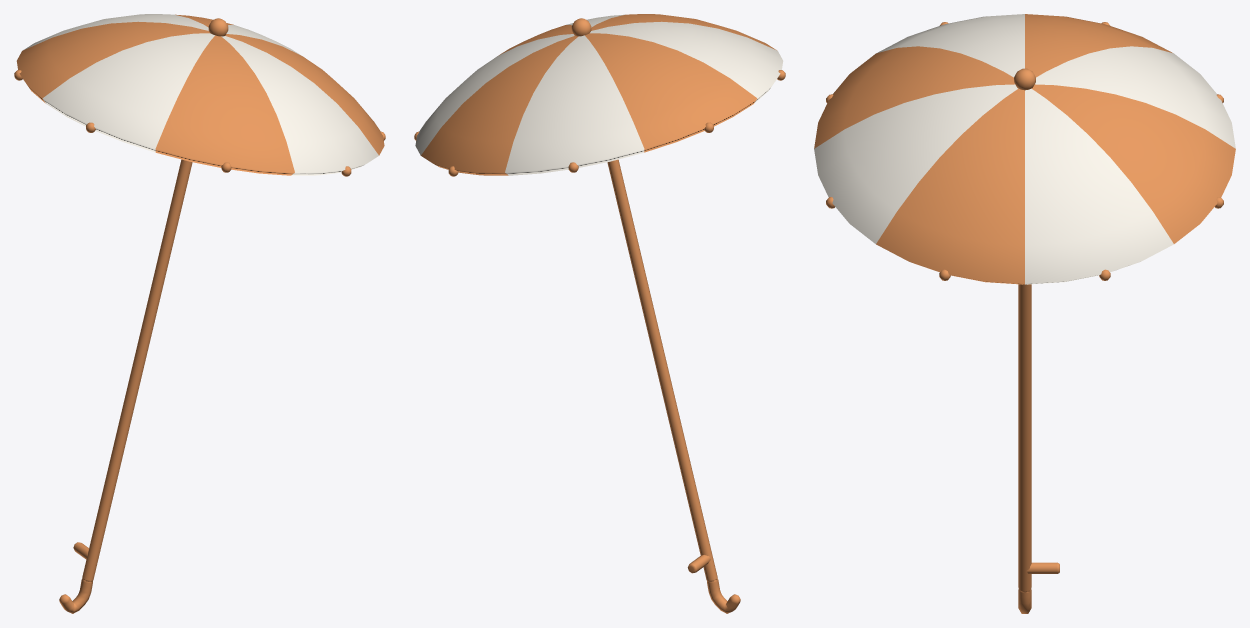
File: orange_umbrella.glb
The picture shows the model from 3 angles, left to right: view 1: azimuth 30°, elevation 25°; view 2: azimuth 150°, elevation 25°; view 3: azimuth 270°, elevation 25°; orthographic projection. The views are drawn at different scales.
Parts seen in each view (by area): view 1: orange_umbrella_ArmR; view 2: orange_umbrella_ArmR; view 3: orange_umbrella_ArmR.
Boxes of the visible parts, box(x1,y1,x2,y2) form: orange_umbrella_ArmR: box(14, 14, 385, 613); orange_umbrella_ArmR: box(414, 14, 785, 613); orange_umbrella_ArmR: box(814, 14, 1235, 613).
Bounding box in the file's own units: 0.8703 × 1.47 × 0.9.
